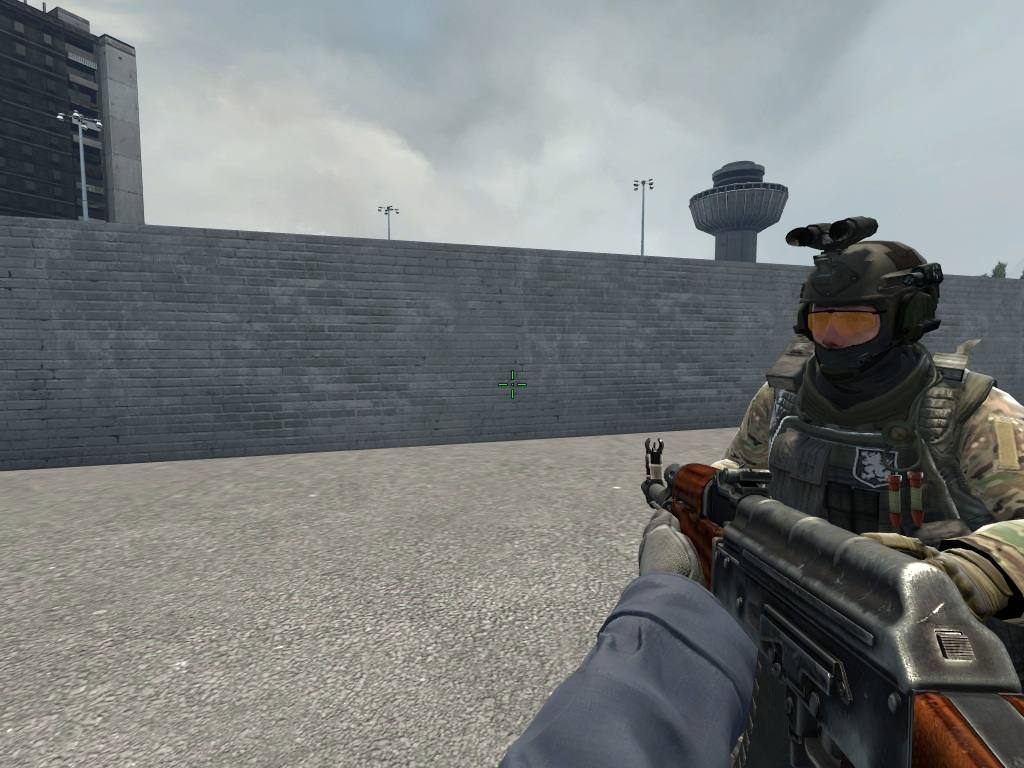ct head: (809, 256, 914, 381)
